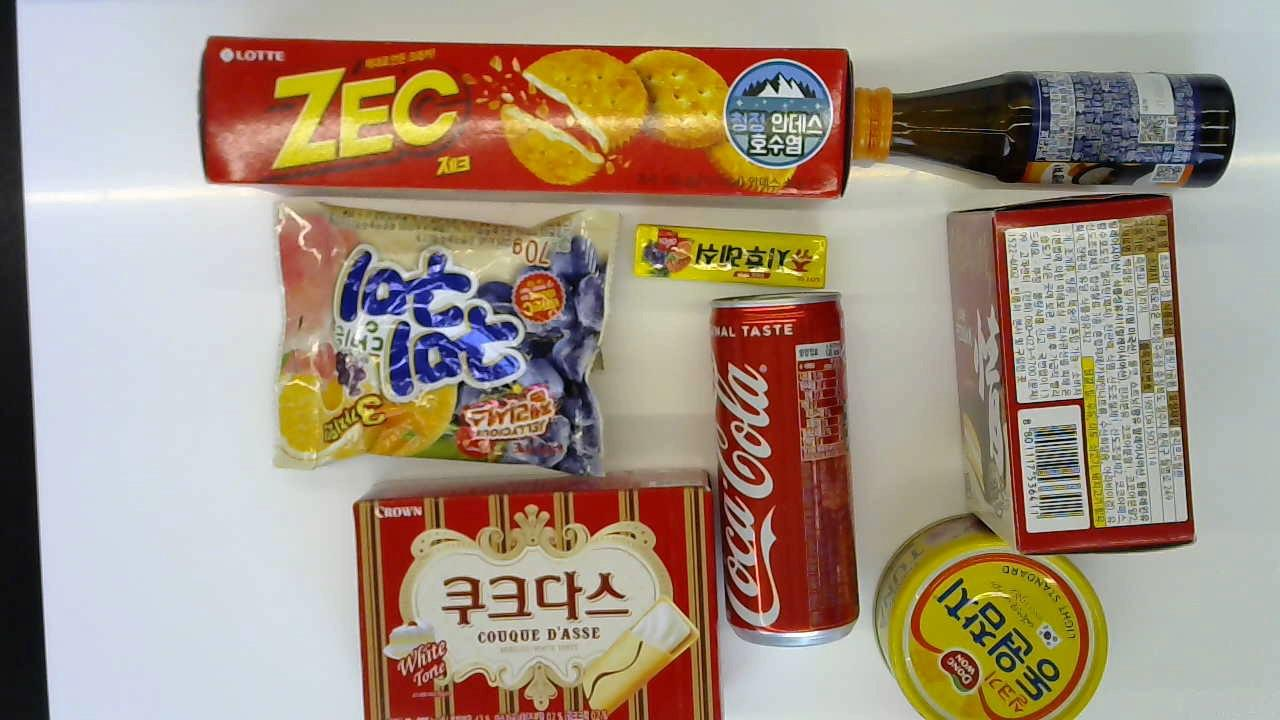chocopie: (938, 192, 1208, 558)
coke: (706, 295, 865, 644)
couque_white: (353, 470, 712, 717)
gumi_gumi: (269, 204, 620, 481)
juicyfresh: (630, 223, 829, 290)
tuna: (873, 518, 1106, 717)
vita500: (843, 75, 1237, 193)
zec: (192, 44, 850, 206)
